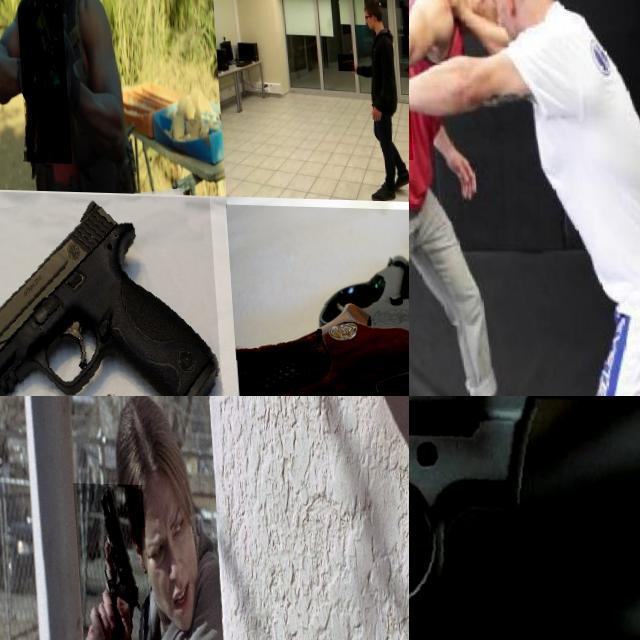-: (409, 63, 446, 158)
gun-knife-thesis - v11 Yolov5 augmented: (409, 396, 640, 640), (0, 189, 218, 396), (221, 202, 409, 396), (70, 481, 149, 640), (14, 0, 68, 163), (335, 52, 352, 68)
